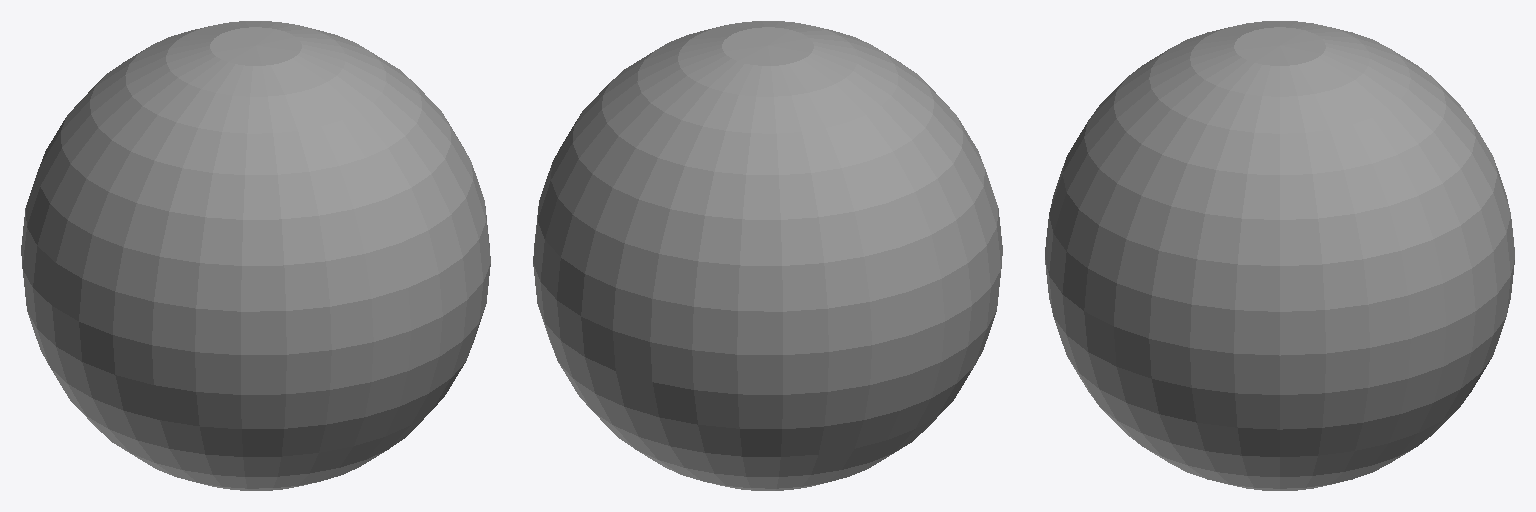
File: baseball.obj
3 renders of one model, left to right at view 1: azimuth 30°, elevation 25°; view 2: azimuth 150°, elevation 25°; view 3: azimuth 270°, elevation 25°, orthographic.
Visible parts, largest first — view 1: Sphere; view 2: Sphere; view 3: Sphere.
Part boxes in pixels (x1,y1,x2,y2): Sphere: (21, 21, 490, 490); Sphere: (533, 21, 1002, 490); Sphere: (1045, 21, 1514, 490).
Bounding box in the file's own units: 4.35 × 4.29 × 4.35.